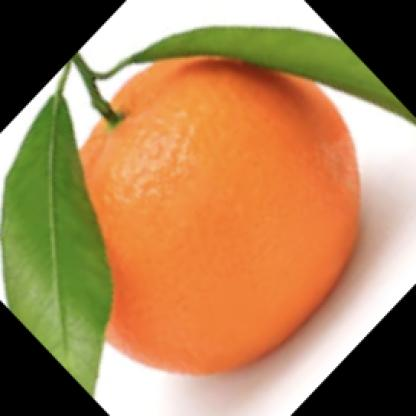fresh: (57, 34, 359, 379)
